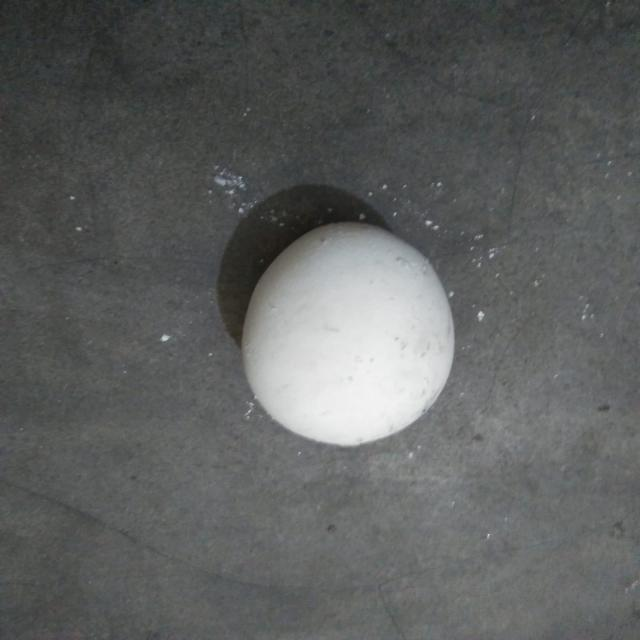Egg: (208, 203, 493, 480)
